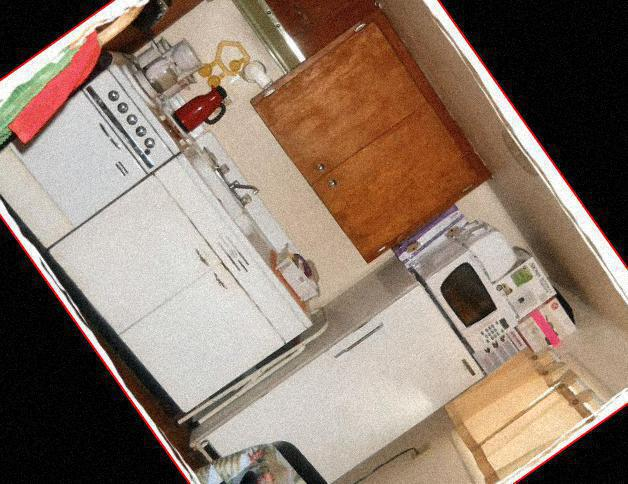Lavaplatos: (187, 130, 282, 240)
